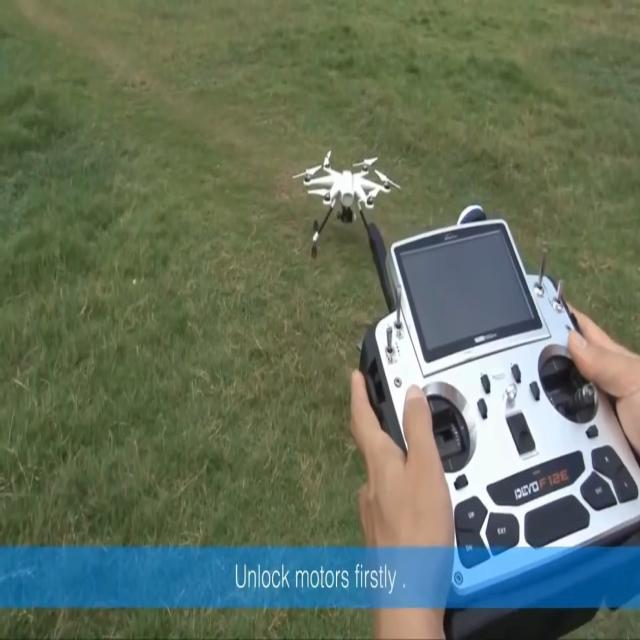drone: (292, 148, 401, 258)
